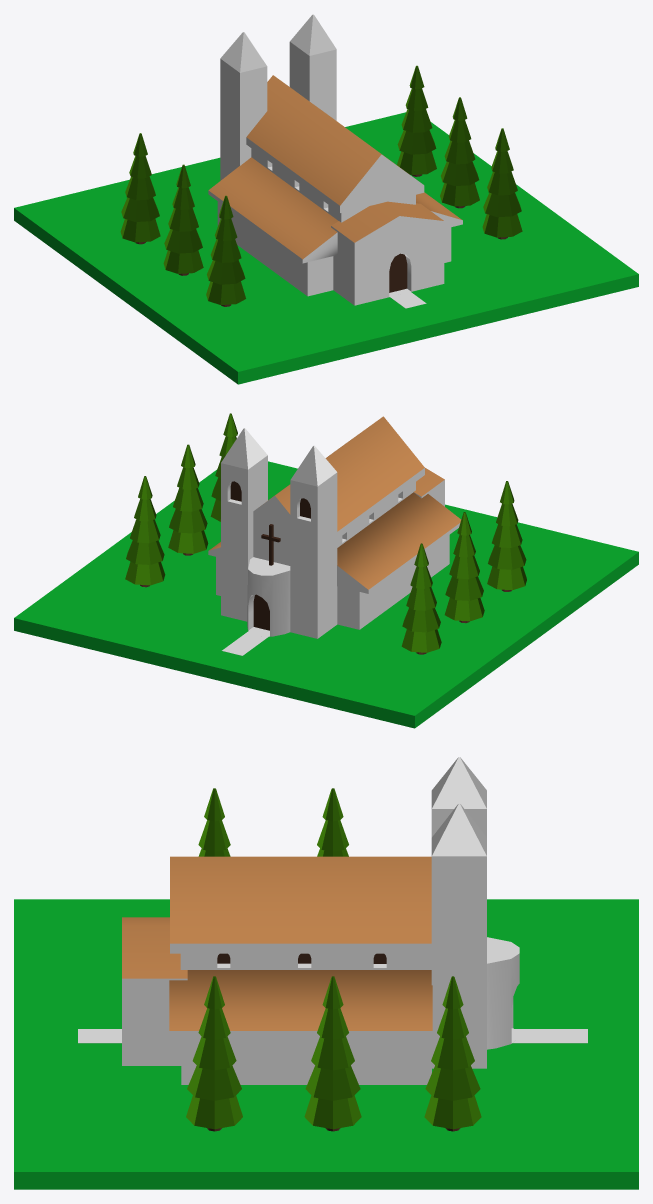
File: 9b4d3bbc-e9ff-4fa3-ab53-fe3f9773e800.glb
The picture shows the model from 3 angles, top to bottom: view 1: azimuth 30°, elevation 25°; view 2: azimuth 150°, elevation 25°; view 3: azimuth 270°, elevation 25°; orthographic projection. The views are drawn at different scales.
Parts seen in each view (by area): view 1: Box030; view 2: Box030; view 3: Box030.
Boxes of the visible parts, bbox=[...] form: Box030: bbox=[14, 14, 638, 384]; Box030: bbox=[14, 413, 638, 728]; Box030: bbox=[14, 757, 638, 1189].
Bounding box in the file's own units: 130 × 60.86 × 126.
